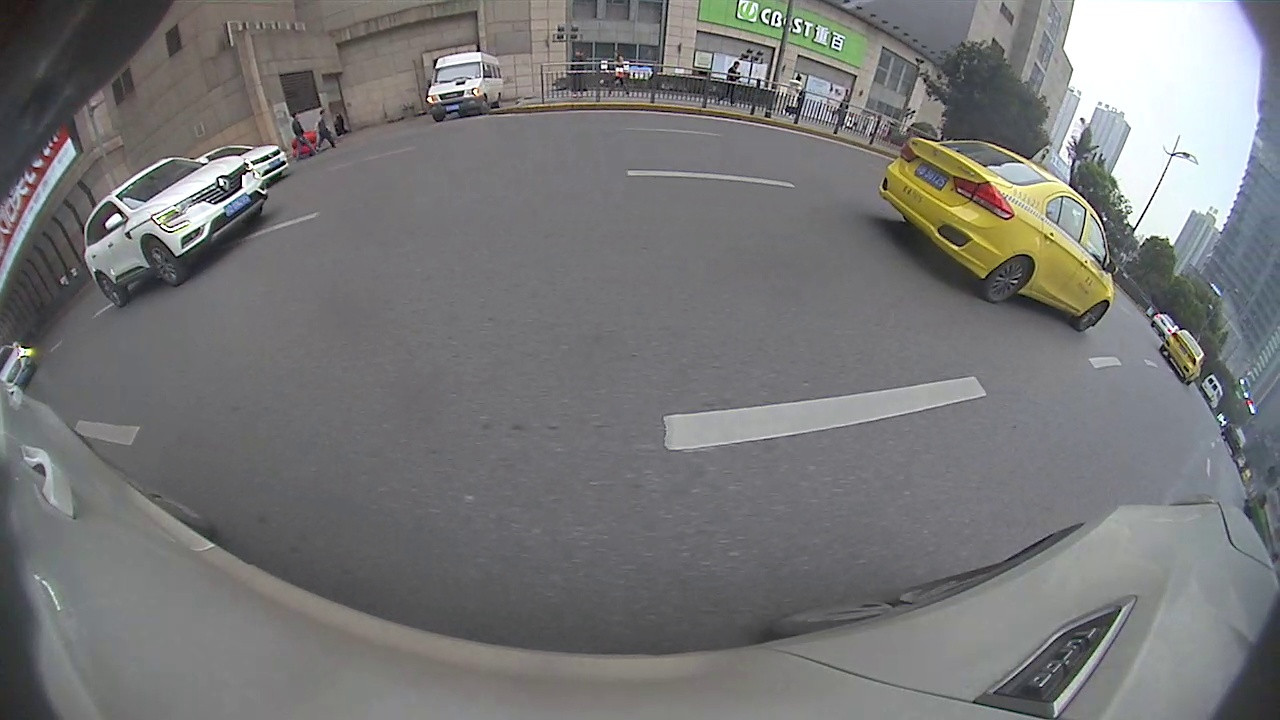car: (876, 133, 1118, 333), (82, 154, 268, 311), (425, 53, 507, 123), (187, 142, 289, 186), (1153, 321, 1207, 388)
front: (145, 239, 182, 288), (1075, 301, 1112, 332)
person: (316, 108, 329, 151), (290, 113, 300, 160)
rear: (982, 257, 1035, 304), (92, 271, 125, 310)
